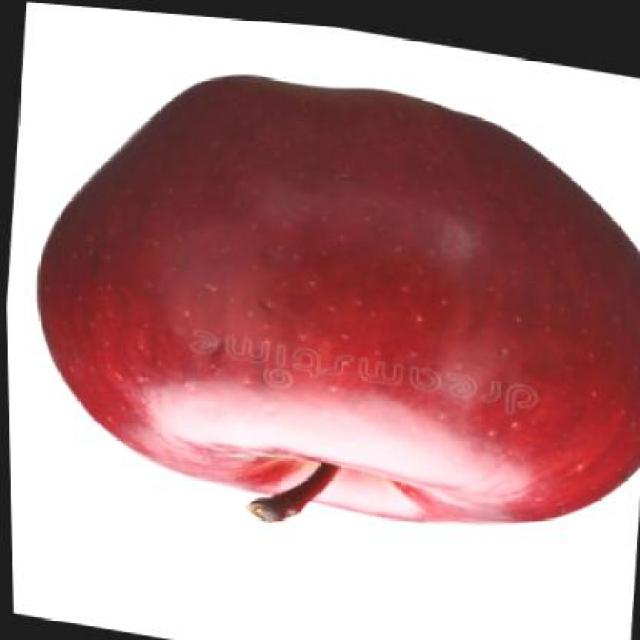Fresh Apple: (29, 80, 640, 532)
